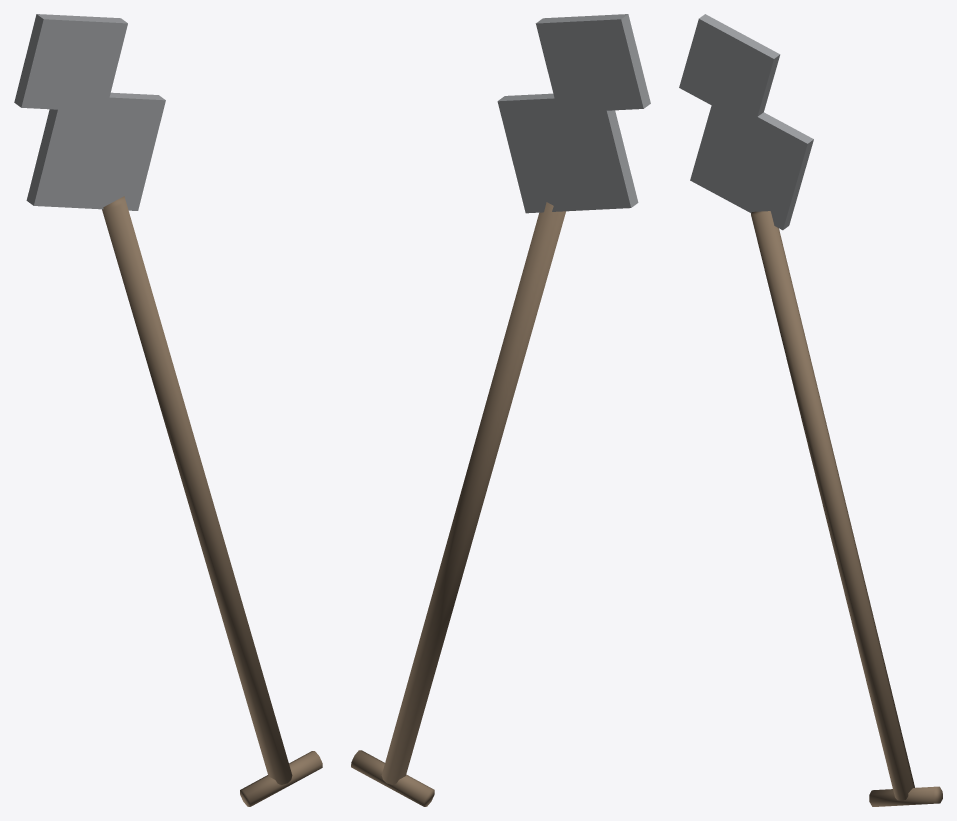
The model's file is ShovelStowed.fbx.
3 renders of one model, left to right at view 1: azimuth 30°, elevation 25°; view 2: azimuth 150°, elevation 25°; view 3: azimuth 330°, elevation 25°, orthographic. The views are drawn at different scales.
Visible parts, largest first — view 1: ShovelStowed; view 2: ShovelStowed; view 3: ShovelStowed.
Part boxes in pixels (<box>): ShovelStowed: <box>14,14,322,806</box>; ShovelStowed: <box>351,14,650,806</box>; ShovelStowed: <box>679,14,942,806</box>.
Size of the model in its own units: 28.69 by 77.3 by 2.8.
